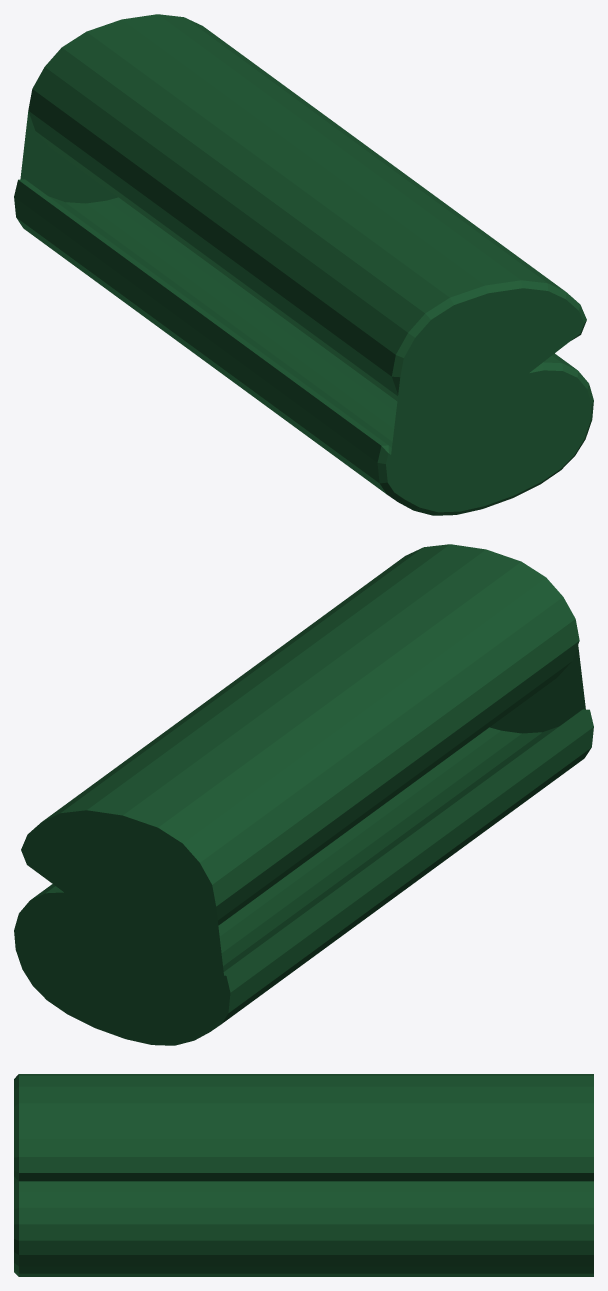
3 renders of one model, top to bottom at view 1: azimuth 30°, elevation 25°; view 2: azimuth 150°, elevation 25°; view 3: azimuth 270°, elevation 25°, orthographic. The views are drawn at different scales.
Visible parts, largest first — view 1: S; view 2: S; view 3: S.
Boxes of the visible parts, x1=… form: S: x1=14, y1=14, x2=593, y2=515; S: x1=14, y1=544, x2=593, y2=1045; S: x1=14, y1=1074, x2=593, y2=1276.
Bounding box in the file's own units: 102 × 101 × 300.
